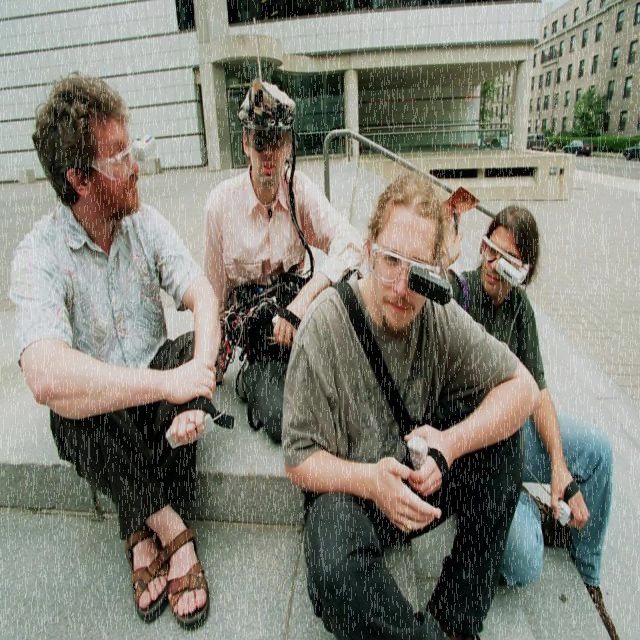pessoa: (276, 162, 545, 639), (2, 67, 224, 629), (446, 202, 616, 594), (200, 75, 368, 451), (534, 136, 591, 154)
